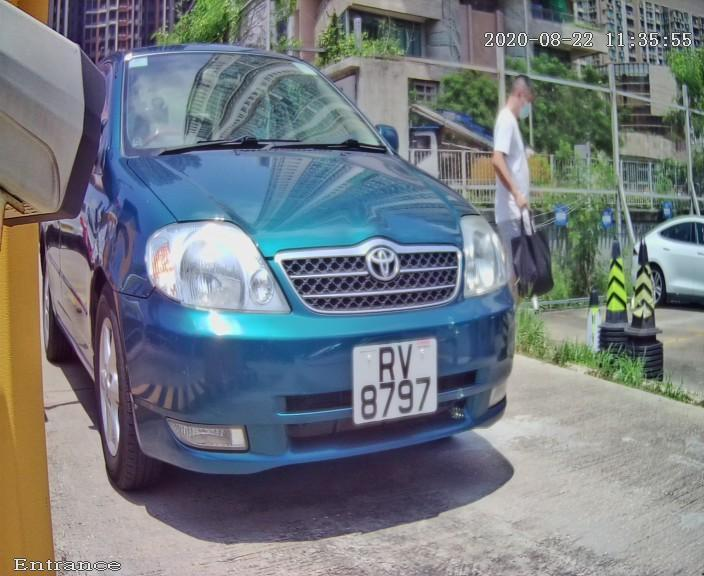Car: (13, 3, 554, 538)
License Plate: (343, 332, 444, 430)
